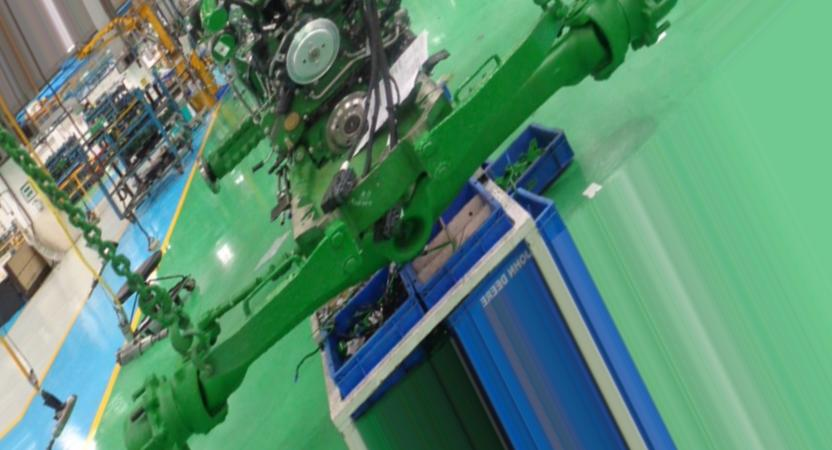engine: (123, 0, 676, 449)
